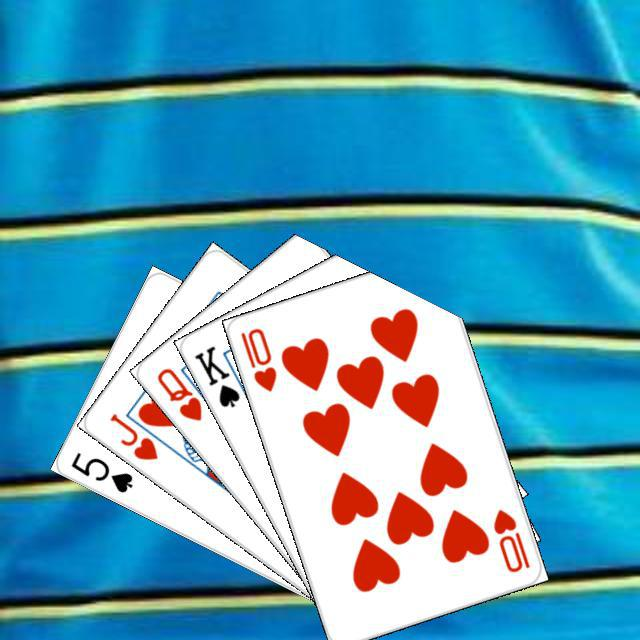10h: (235, 323, 279, 394), (488, 504, 532, 575)
5s: (66, 447, 135, 495)
Jh: (104, 408, 160, 462)
Ks: (189, 340, 242, 410)
Qh: (151, 363, 204, 423)
